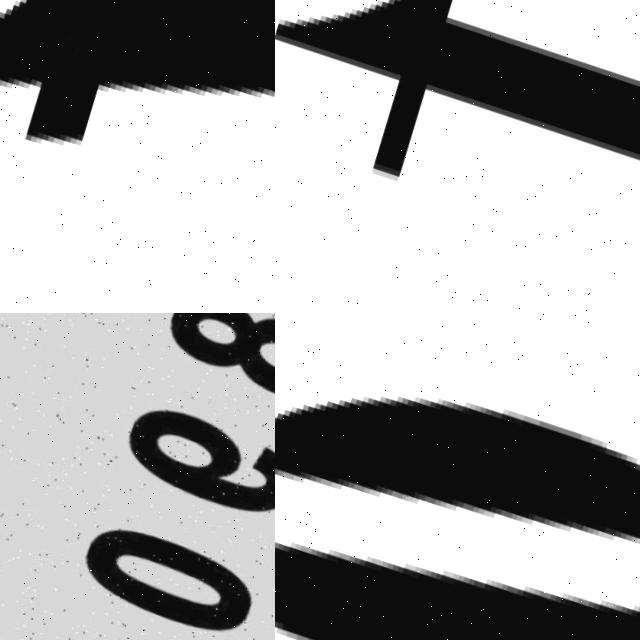0: (275, 313, 640, 640), (16, 489, 275, 640)
8: (116, 313, 275, 443)
9: (68, 374, 275, 555)
T: (275, 0, 640, 313), (0, 0, 275, 304)
